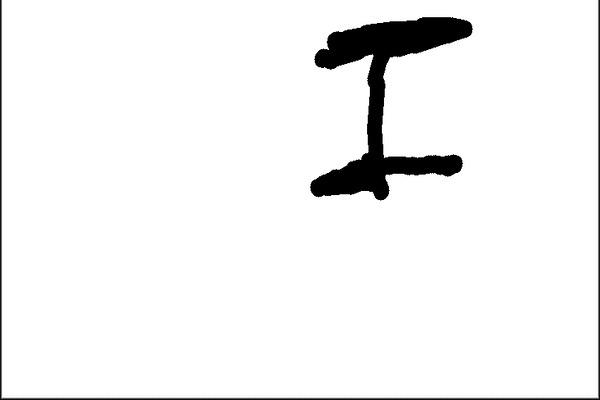i: (294, 3, 483, 206)
